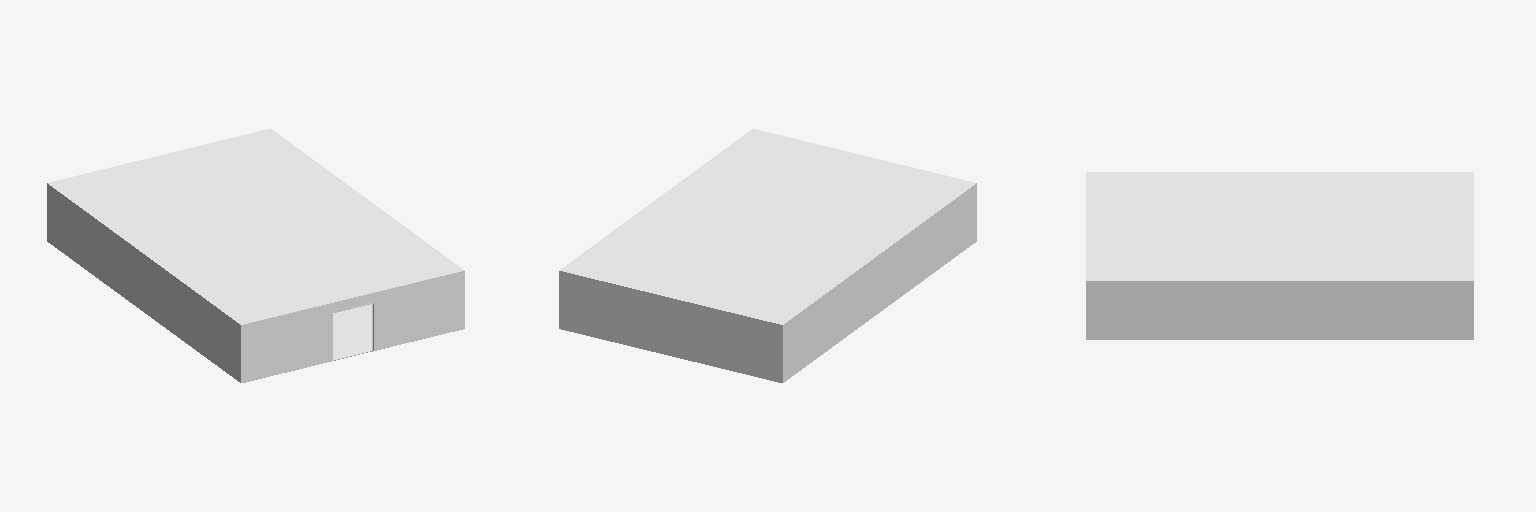
The model's file is Room1.obj.
3 renders of one model, left to right at view 1: azimuth 30°, elevation 25°; view 2: azimuth 150°, elevation 25°; view 3: azimuth 270°, elevation 25°, orthographic.
Parts seen in each view (by area): view 1: room_5_27, wall_4_22, wall_3_16, room_5_26; view 2: room_5_27, wall_1_4, wall_4_22; view 3: room_5_27, wall_2_10.
Boxes of the visible parts, <box> form: room_5_27: <box>50,130,460,324</box>; wall_4_22: <box>47,183,240,382</box>; wall_3_16: <box>241,271,464,382</box>; room_5_26: <box>333,304,371,360</box>; room_5_27: <box>562,130,975,323</box>; wall_1_4: <box>559,271,781,382</box>; wall_4_22: <box>782,183,976,382</box>; room_5_27: <box>1088,172,1471,280</box>; wall_2_10: <box>1086,281,1473,339</box>.
Size of the model in its own units: 1005 by 250 by 1510.